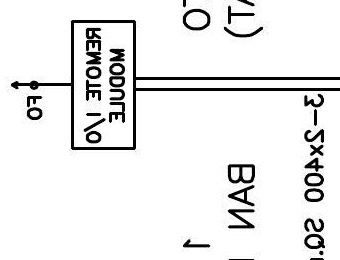remote_io_module: (71, 19, 137, 150)
